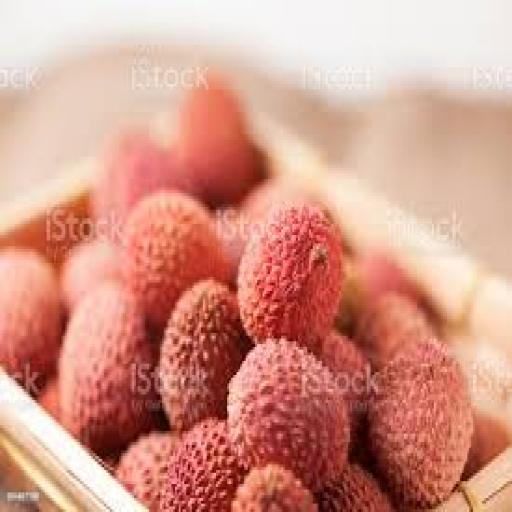lychee: (228, 339, 350, 492), (369, 339, 472, 509), (60, 283, 158, 456), (239, 205, 342, 349), (123, 194, 227, 327), (159, 280, 245, 430), (177, 73, 264, 207), (92, 132, 189, 240), (0, 250, 61, 394), (161, 420, 245, 511), (356, 294, 435, 369), (319, 331, 372, 433), (116, 431, 180, 511), (62, 238, 121, 310), (231, 465, 318, 511), (317, 465, 392, 511), (354, 250, 420, 302), (241, 180, 320, 221), (464, 415, 511, 478), (38, 375, 59, 422)
